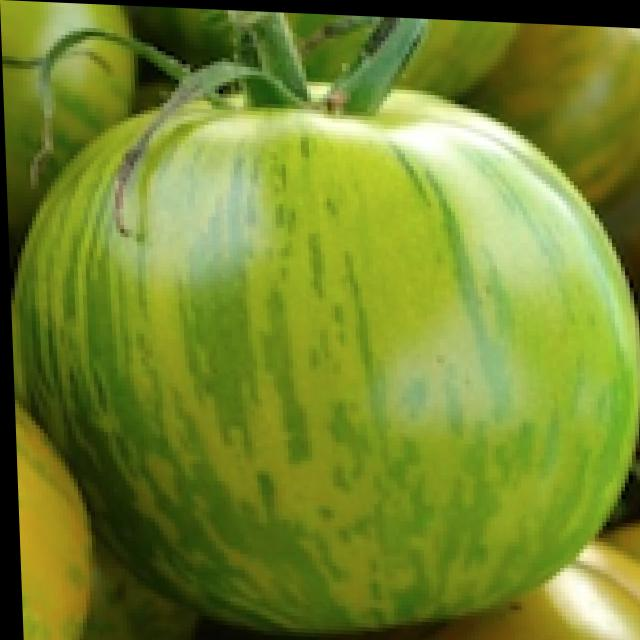yesil: (15, 42, 640, 636)
